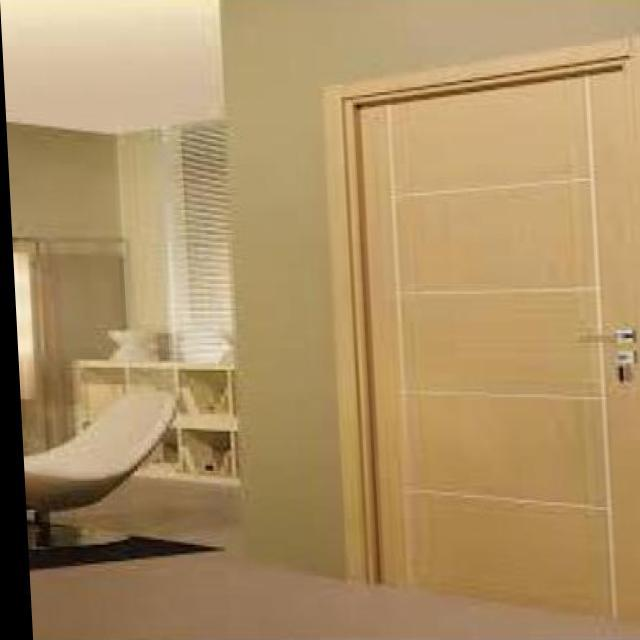door_handle: (560, 321, 638, 352)
